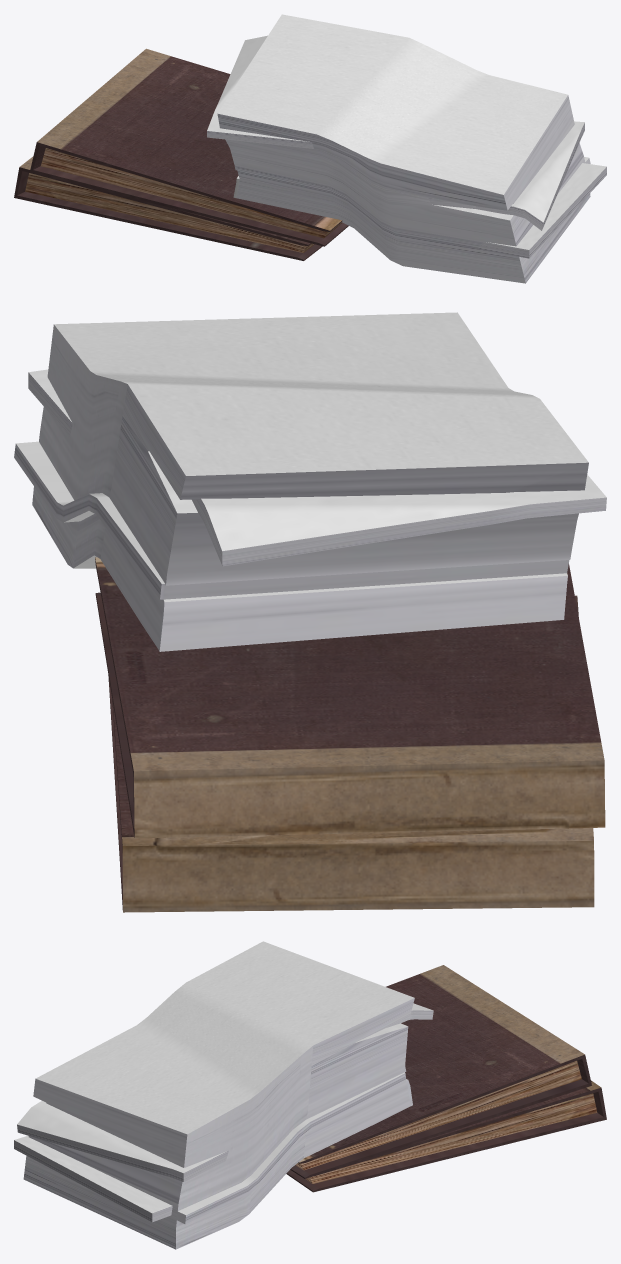
The model's file is FolderandPapers.fbx.
The picture shows the model from 3 angles, top to bottom: view 1: azimuth 30°, elevation 25°; view 2: azimuth 150°, elevation 25°; view 3: azimuth 270°, elevation 25°; orthographic projection. The views are drawn at different scales.
Visible parts, largest first — view 1: polySurface422; view 2: polySurface422; view 3: polySurface422.
Boxes of the visible parts, box(x1,y1,x2,y2) form: polySurface422: box(14, 14, 606, 283); polySurface422: box(14, 312, 606, 912); polySurface422: box(14, 941, 606, 1249).
Bounding box in the file's own units: 126 × 39.92 × 141.
Materials: 1 (1 with a texture image).
